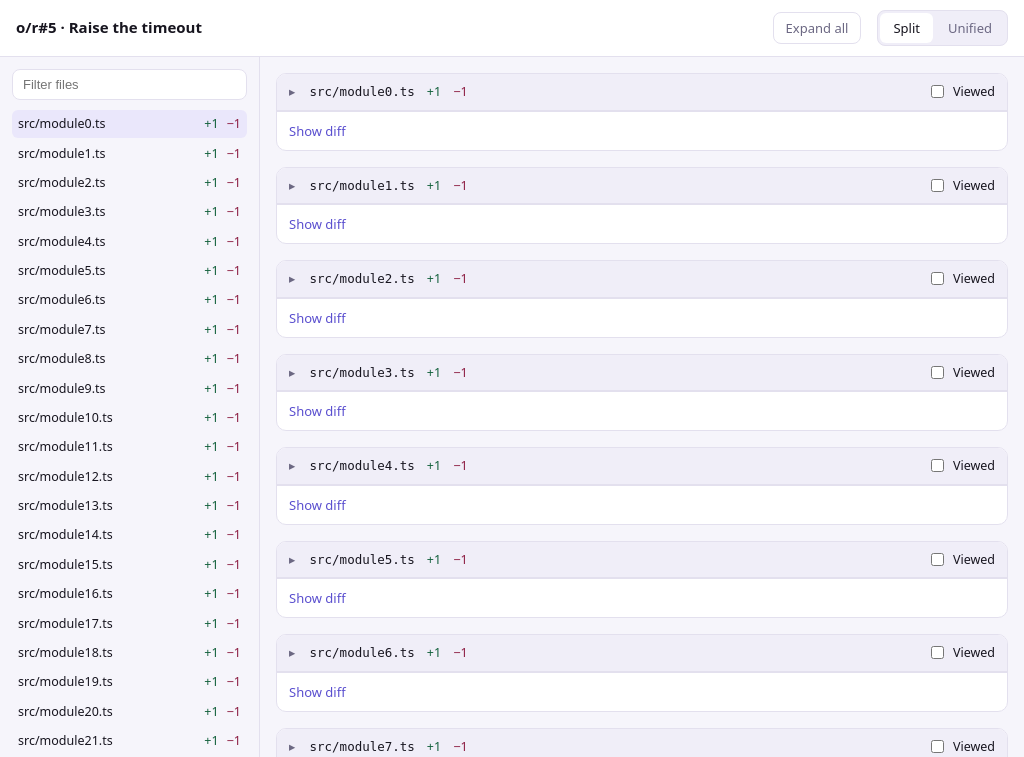
Test case: Review above the auto-expand cap › expands and collapses every file at once
Click the button "Expand all" at (817, 28), box x1=773 y1=12 x2=861 y2=44
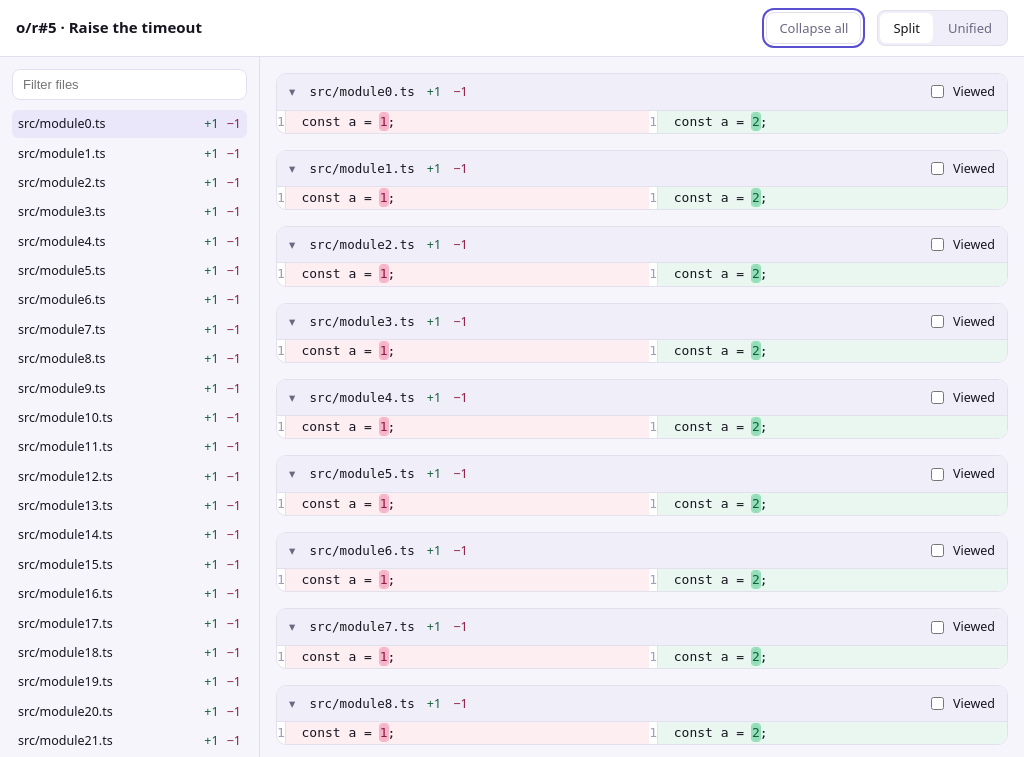
Click the button "Collapse all" at (814, 28), box x1=766 y1=12 x2=861 y2=44
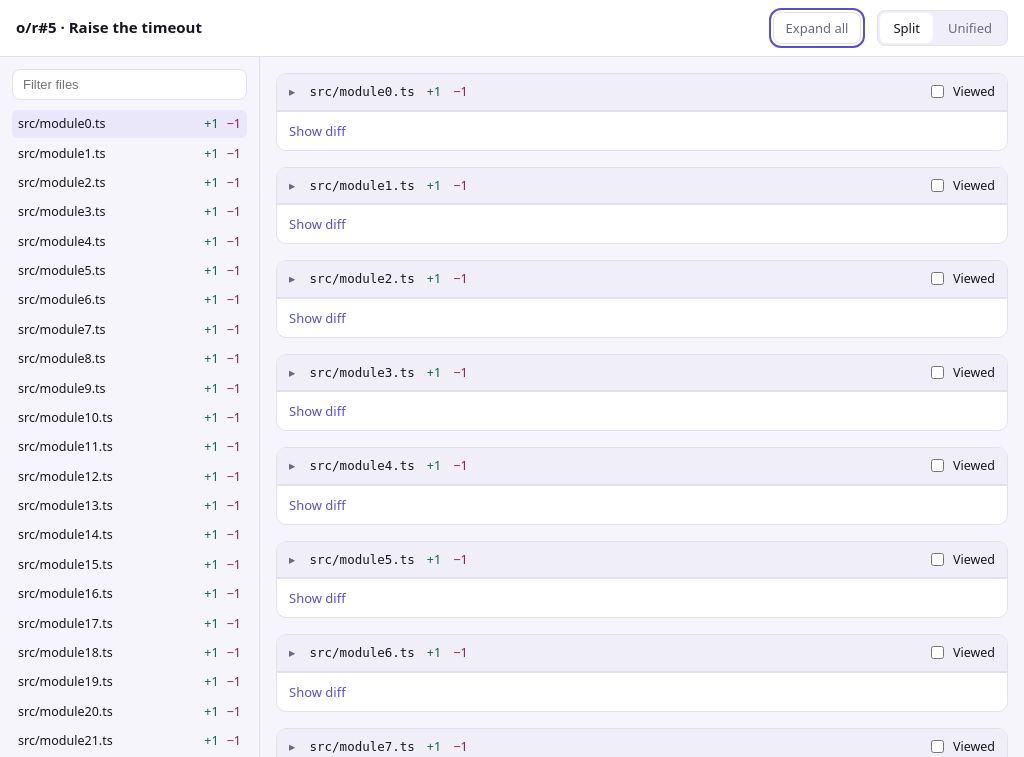
Now no tables with class "diff" are shown
